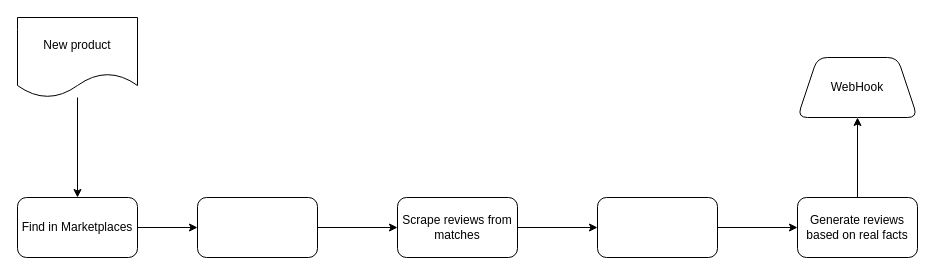
This 935x275 diagram has some shape labels left out. Each missing label, with the box of its shape:
Check each product with original: (196, 196, 318, 258)
Generate real facts based on real reviews: (596, 196, 718, 258)
